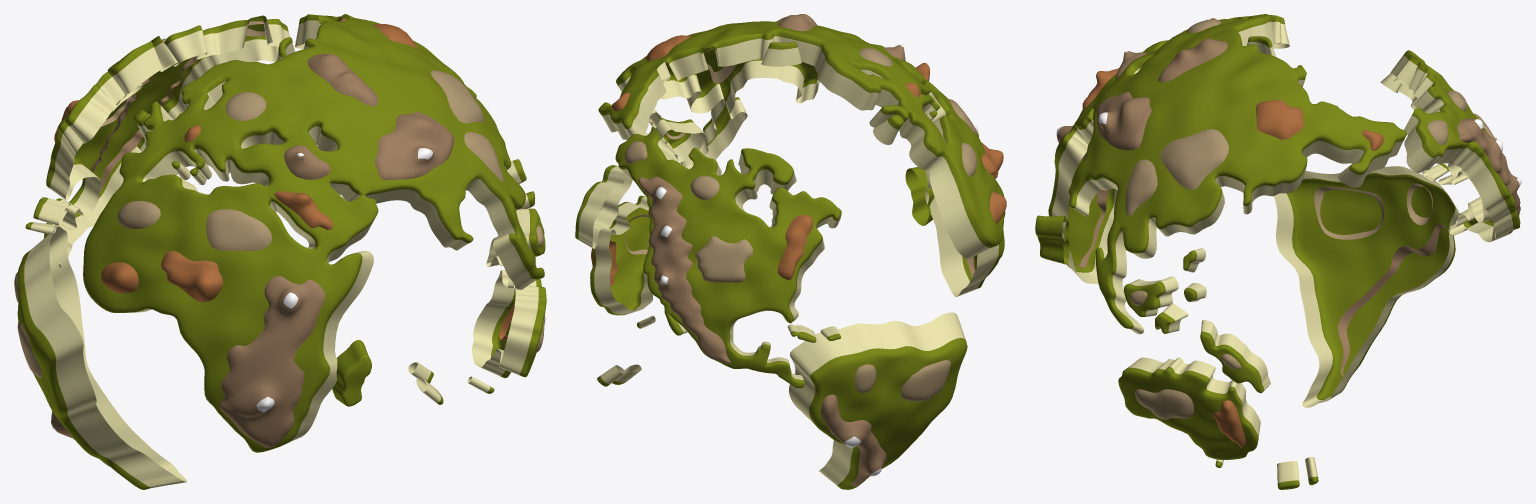
3 renders of one model, left to right at view 1: azimuth 30°, elevation 25°; view 2: azimuth 150°, elevation 25°; view 3: azimuth 270°, elevation 25°, orthographic. The views are drawn at different scales.
Visible parts, largest first — view 1: Earth, mountains2, mountains1, mountains3; view 2: Earth, mountains2, mountains1, mountains3; view 3: Earth, mountains2, mountains1, mountains3.
Boxes of the visible parts, box(x1,y1,x2,y2) form: Earth: box(17, 14, 546, 489); mountains2: box(51, 53, 453, 466); mountains1: box(14, 21, 545, 378); mountains3: box(54, 16, 514, 340); Earth: box(575, 21, 1005, 489); mountains2: box(638, 14, 978, 486); mountains1: box(624, 33, 977, 401); mountains3: box(591, 35, 1006, 286); Earth: box(1035, 14, 1520, 489); mountains2: box(1056, 38, 1521, 376); mountains1: box(1125, 19, 1494, 419); mountains3: box(1082, 18, 1383, 447).
Bounding box in the file's own units: 2.5 × 2.35 × 2.51.
